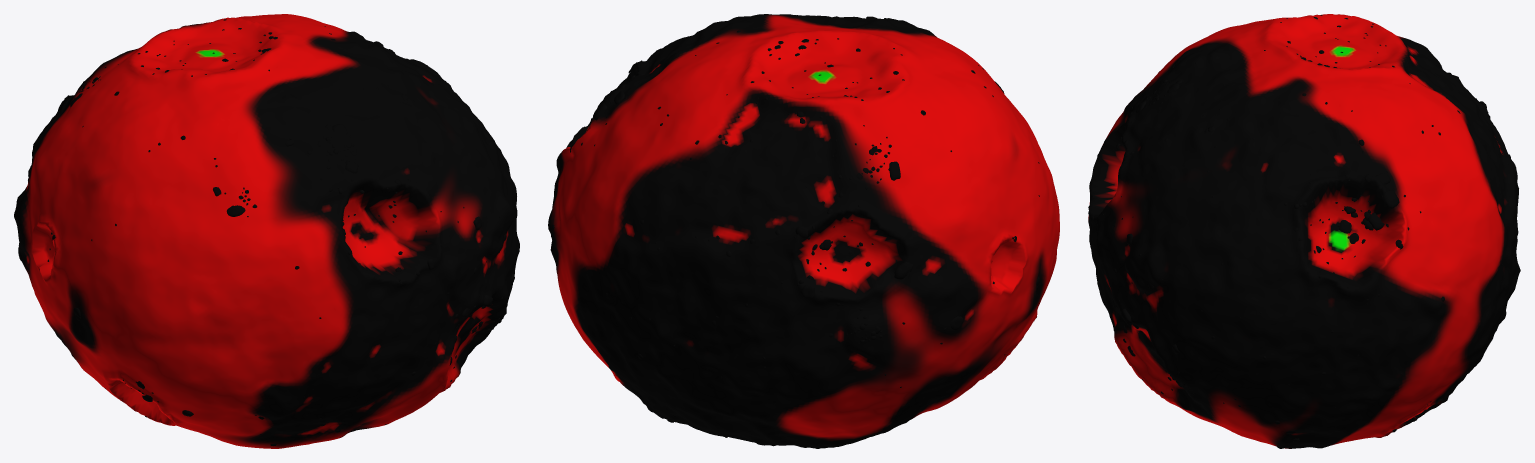
File: comet_d.fbx
The picture shows the model from 3 angles, left to right: view 1: azimuth 30°, elevation 25°; view 2: azimuth 150°, elevation 25°; view 3: azimuth 270°, elevation 25°; orthographic projection. The views are drawn at different scales.
Visible parts, largest first — view 1: comet_d_LOD0; view 2: comet_d_LOD0; view 3: comet_d_LOD0.
Part boxes in pixels (bbox=[...]): comet_d_LOD0: bbox=[14, 14, 519, 448]; comet_d_LOD0: bbox=[548, 14, 1059, 448]; comet_d_LOD0: bbox=[1088, 14, 1520, 448].
Size of what is drawn, in the model's own units: 249 by 228 by 206.
